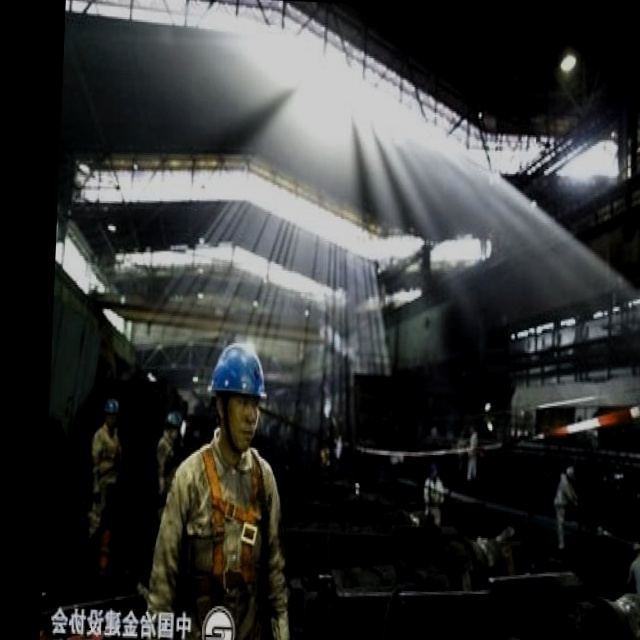Con_Casco: (213, 337, 268, 439)
